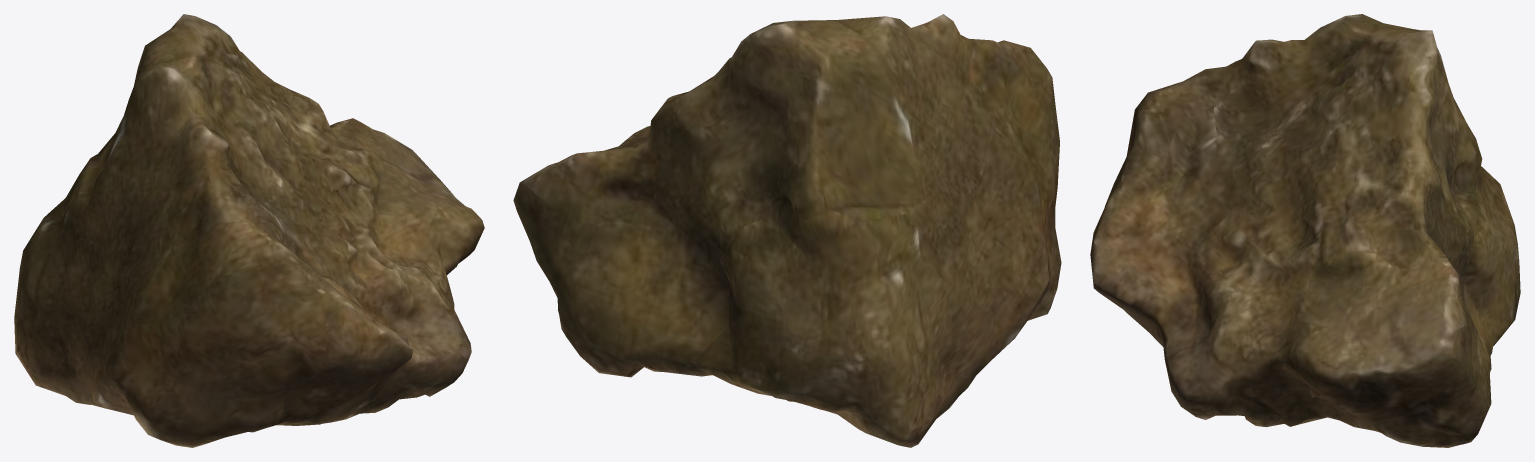
The model's file is mossrock_3.gltf.
3 renders of one model, left to right at view 1: azimuth 30°, elevation 25°; view 2: azimuth 150°, elevation 25°; view 3: azimuth 270°, elevation 25°, orthographic. The views are drawn at different scales.
Parts seen in each view (by area): view 1: mossrock_3; view 2: mossrock_3; view 3: mossrock_3.
Boxes of the visible parts, x1=… form: mossrock_3: x1=14, y1=14, x2=484, y2=447; mossrock_3: x1=513, y1=14, x2=1061, y2=447; mossrock_3: x1=1090, y1=14, x2=1520, y2=447.
Bounding box in the file's own units: 2.13 × 1.77 × 1.97.
1 material, 1 textured.
